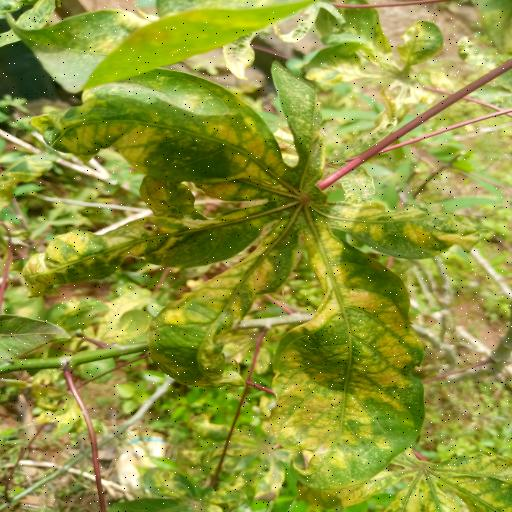Cassava_Mosaic: (21, 69, 512, 512)
